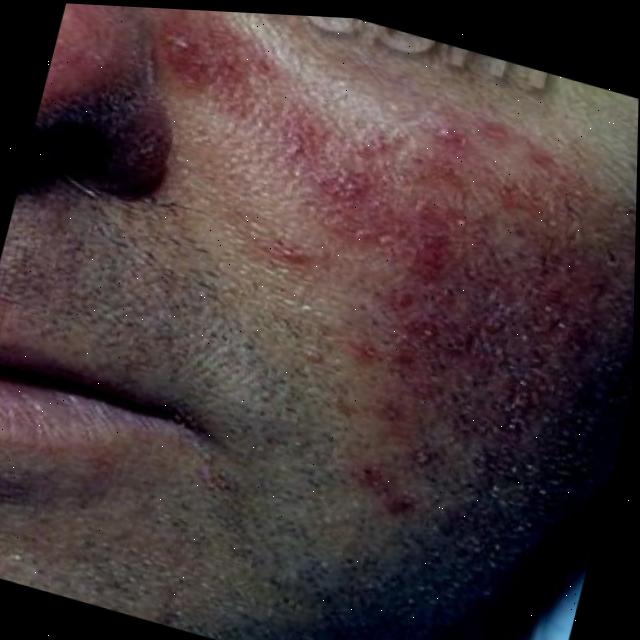Rosacea: (74, 4, 640, 560)
